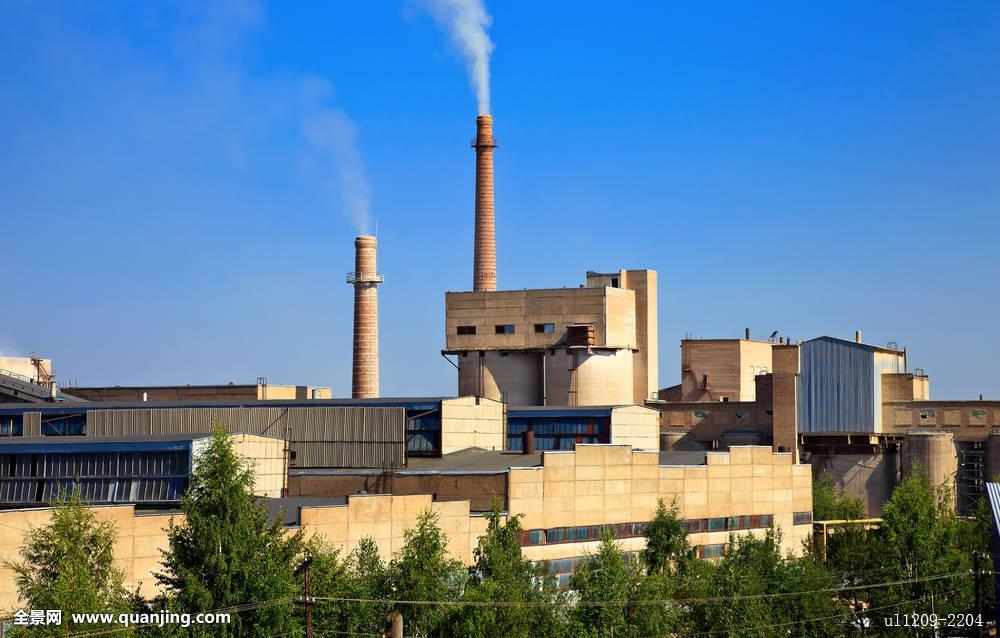dust: (433, 3, 537, 123)
